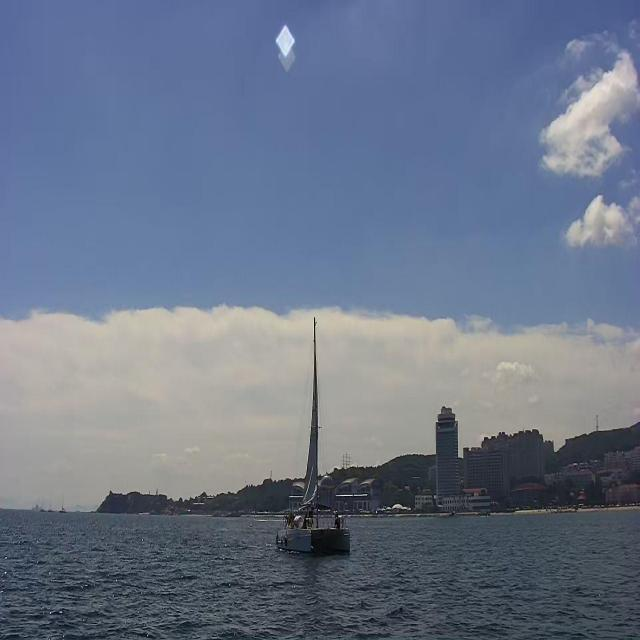CIV_Ship: (278, 318, 352, 558)
